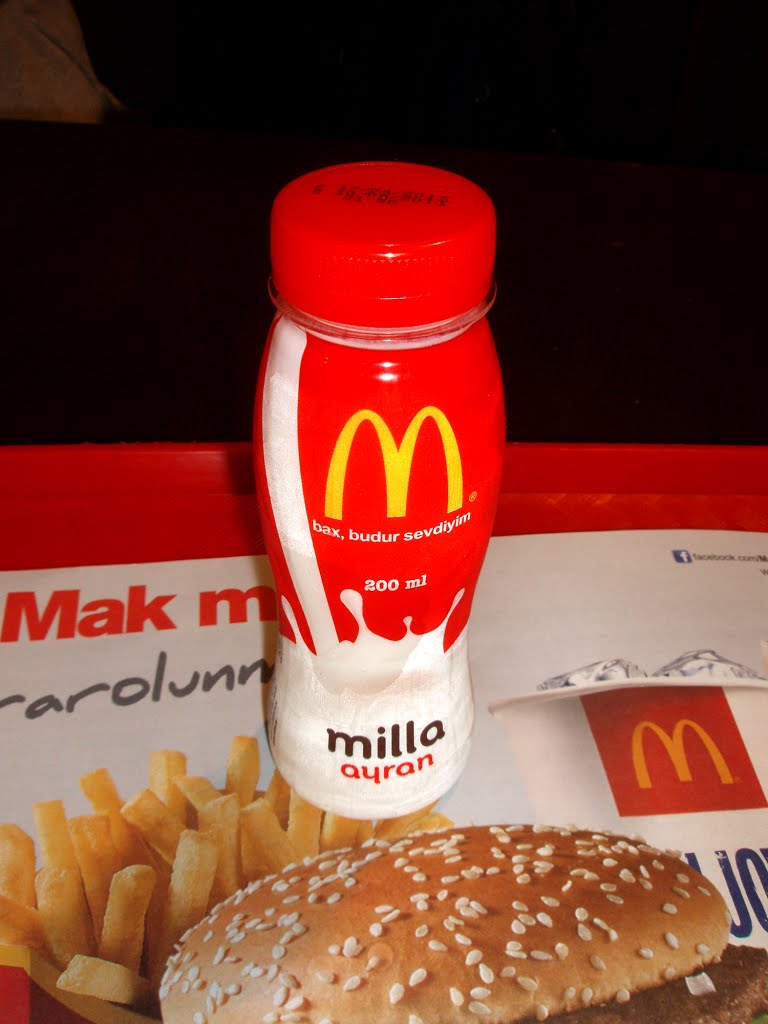mcdonalds: (315, 404, 470, 524), (627, 700, 737, 806)
